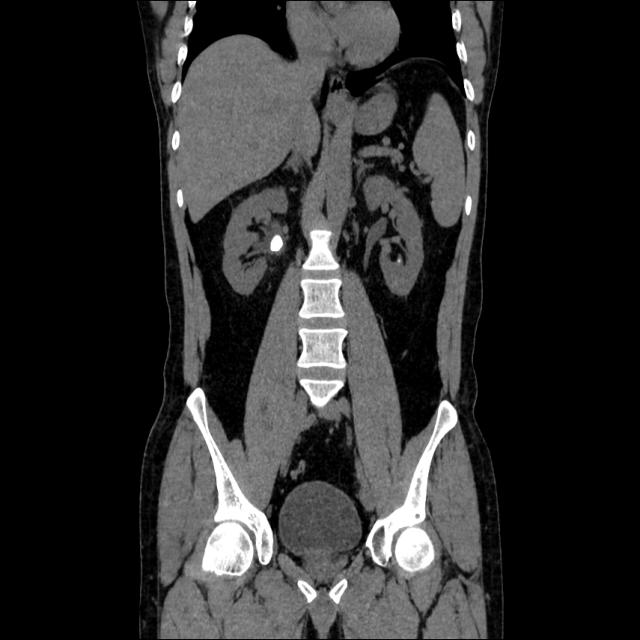kidneystone: (270, 235, 284, 251)
